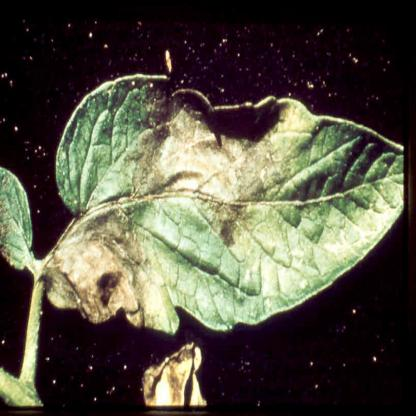tomato leaf late blight: (44, 60, 406, 347)
